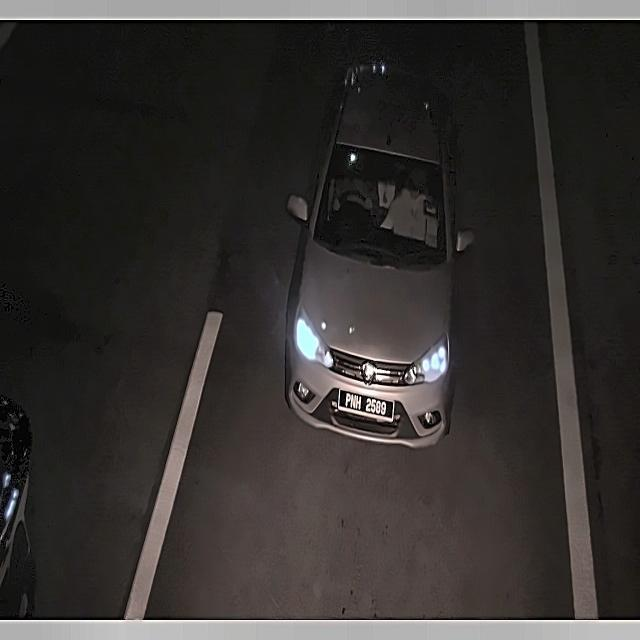car: (336, 382, 398, 423)
